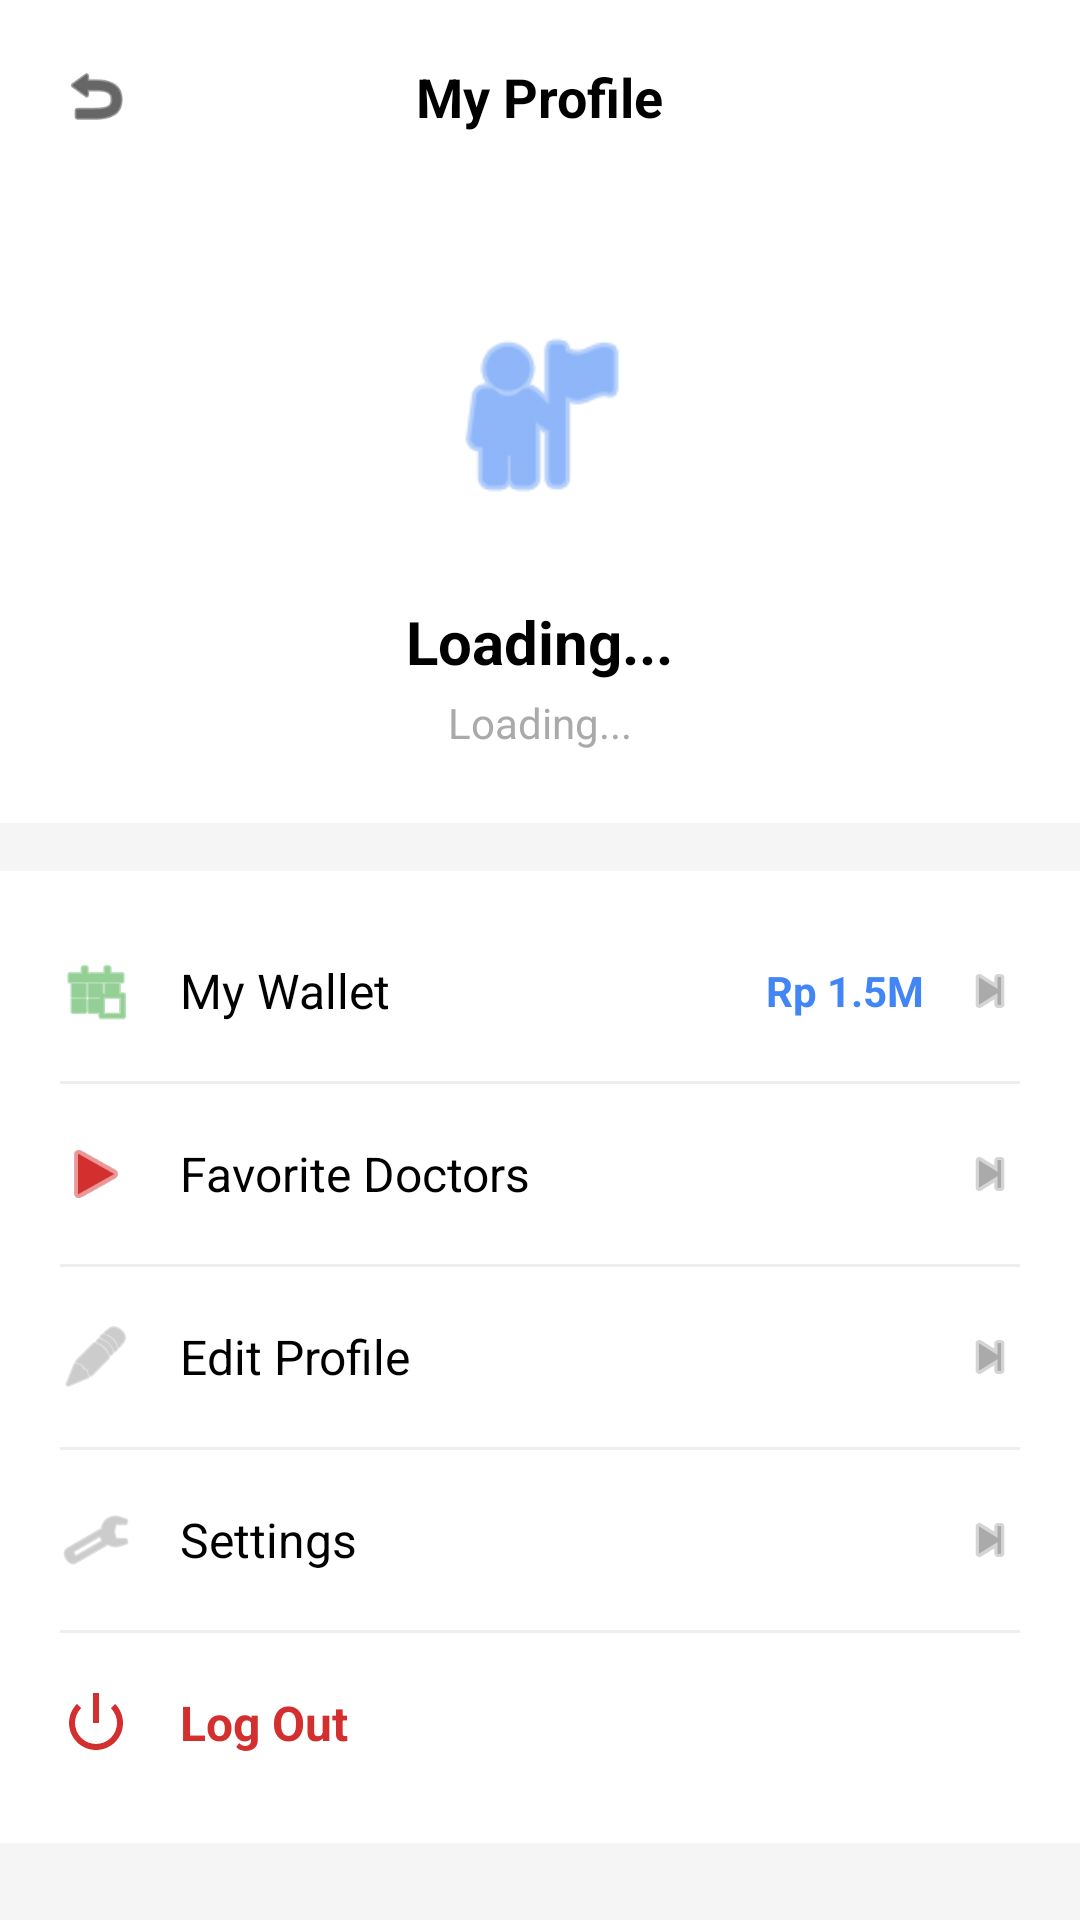

Named icons in this screenshot (1080 x 1920) and their bounding boxes, (left=x1, top=y1, right=x2, bottom=y2):
lock power off: (left=69, top=1693, right=123, bottom=1750)
myplaces: (left=466, top=339, right=619, bottom=491)
next: (left=976, top=974, right=1004, bottom=1008), (left=976, top=1157, right=1004, bottom=1191), (left=976, top=1340, right=1004, bottom=1374), (left=976, top=1523, right=1004, bottom=1557)
play: (left=74, top=1150, right=118, bottom=1198)
preferences: (left=64, top=1516, right=128, bottom=1564)
revert: (left=71, top=73, right=123, bottom=120)
today: (left=67, top=965, right=126, bottom=1019)
